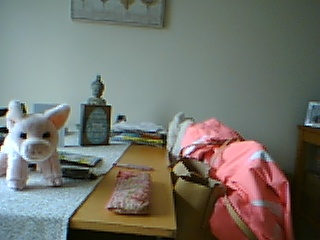piggy: (1, 99, 73, 192)
